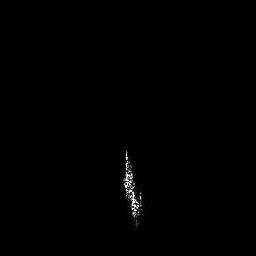ship: (121, 146, 144, 227)
